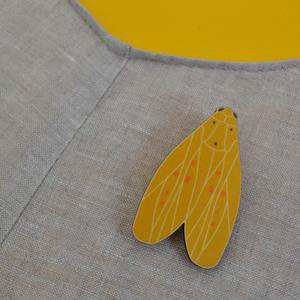Agape chloropyga: (130, 106, 249, 269)
moth: (131, 105, 250, 268)
